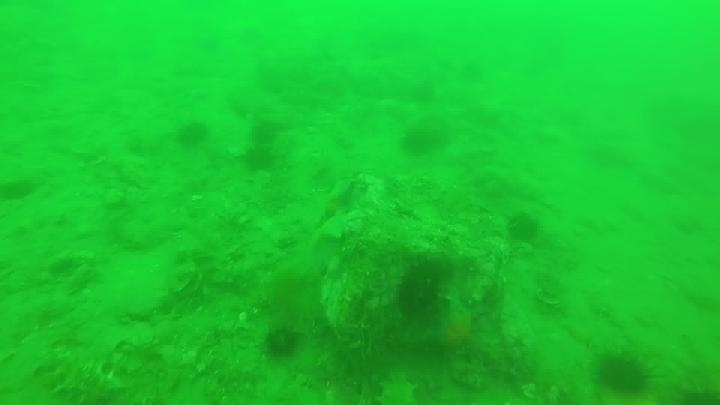echinus: (394, 256, 451, 320), (593, 349, 654, 399), (400, 123, 445, 158), (448, 51, 493, 86), (399, 71, 444, 106), (261, 324, 302, 361), (505, 210, 542, 245), (175, 118, 211, 150), (241, 143, 277, 174), (1, 175, 38, 204), (248, 118, 282, 147)
holothurian: (35, 350, 131, 403), (373, 370, 422, 404)
starfish: (424, 296, 484, 356)
